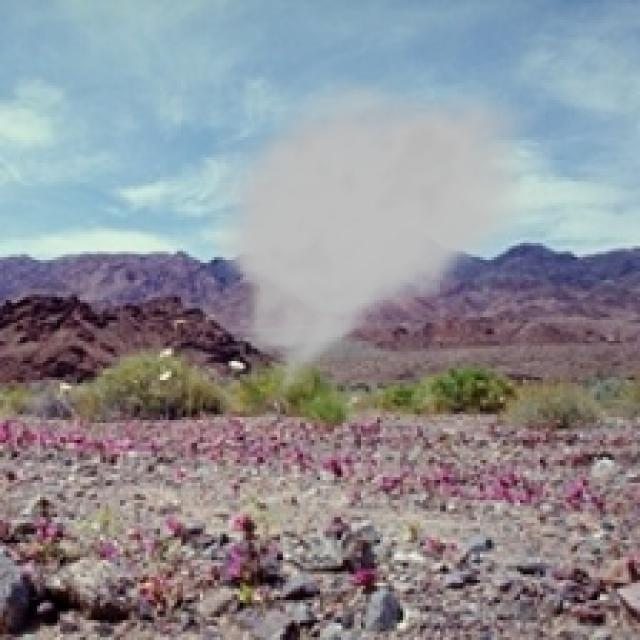smoke: (200, 74, 549, 420)
